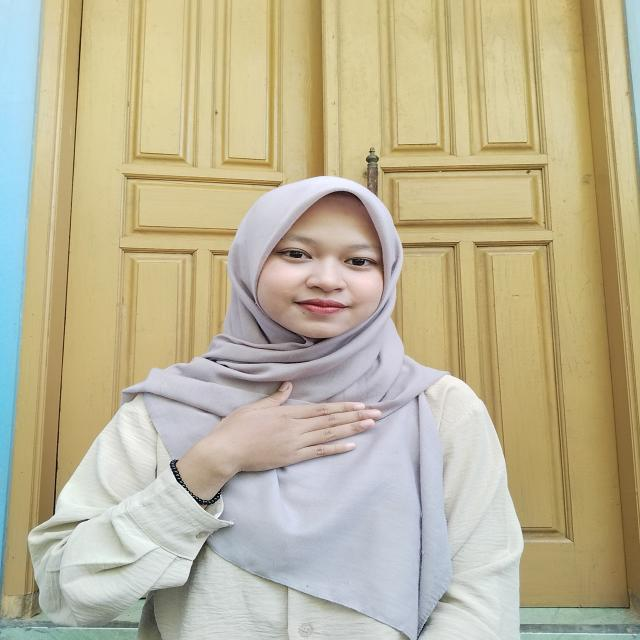tolong: (133, 372, 393, 483)
